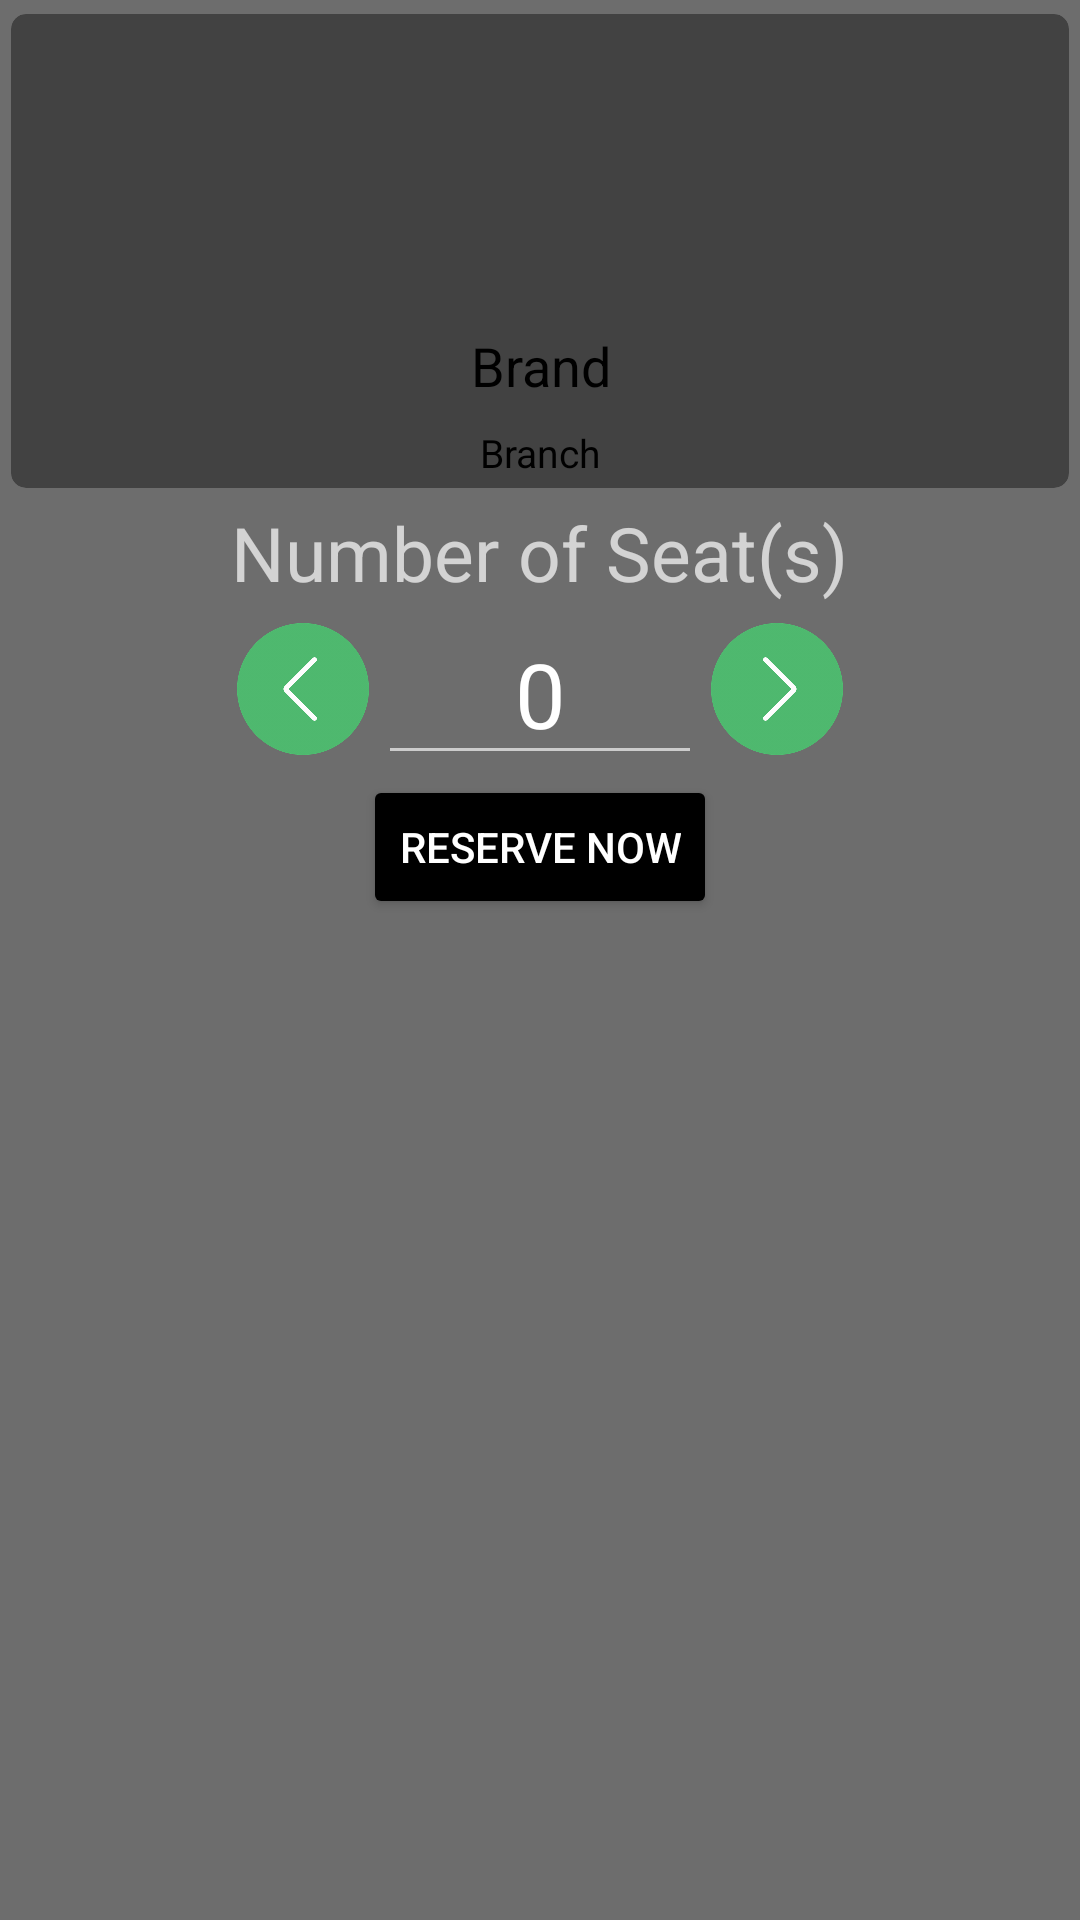

Where icons sit on this 1080 × 1920 app screen, as (x1, y1, x2, y2):
leftarrow: (237, 623, 369, 755)
rightarrow: (711, 623, 843, 755)
